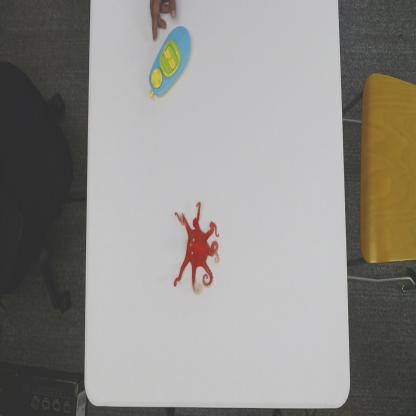Boat: (148, 25, 192, 102)
Hand: (149, 0, 178, 42)
Octopus: (173, 200, 220, 296)
